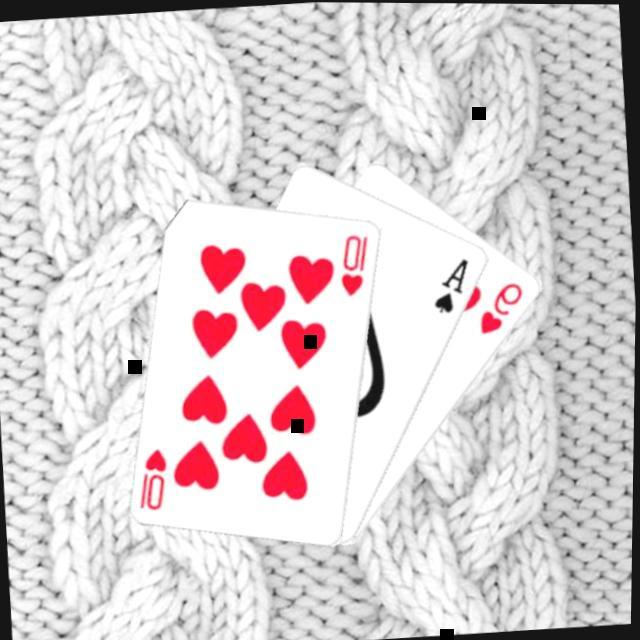10H: (334, 230, 376, 300), (132, 445, 174, 515)
9H: (473, 278, 530, 339)
AS: (427, 255, 476, 318)
